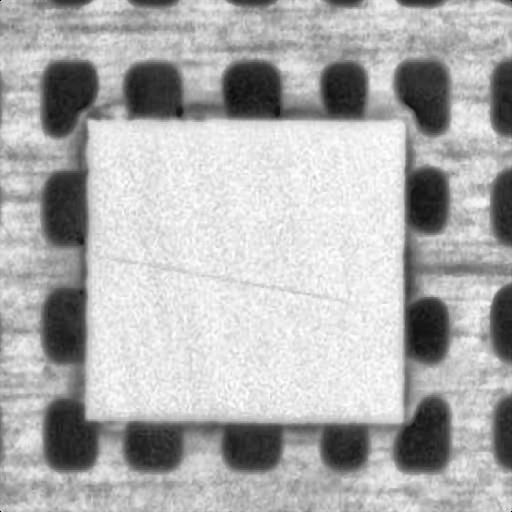DIE_CRACK: (124, 191, 457, 225)
